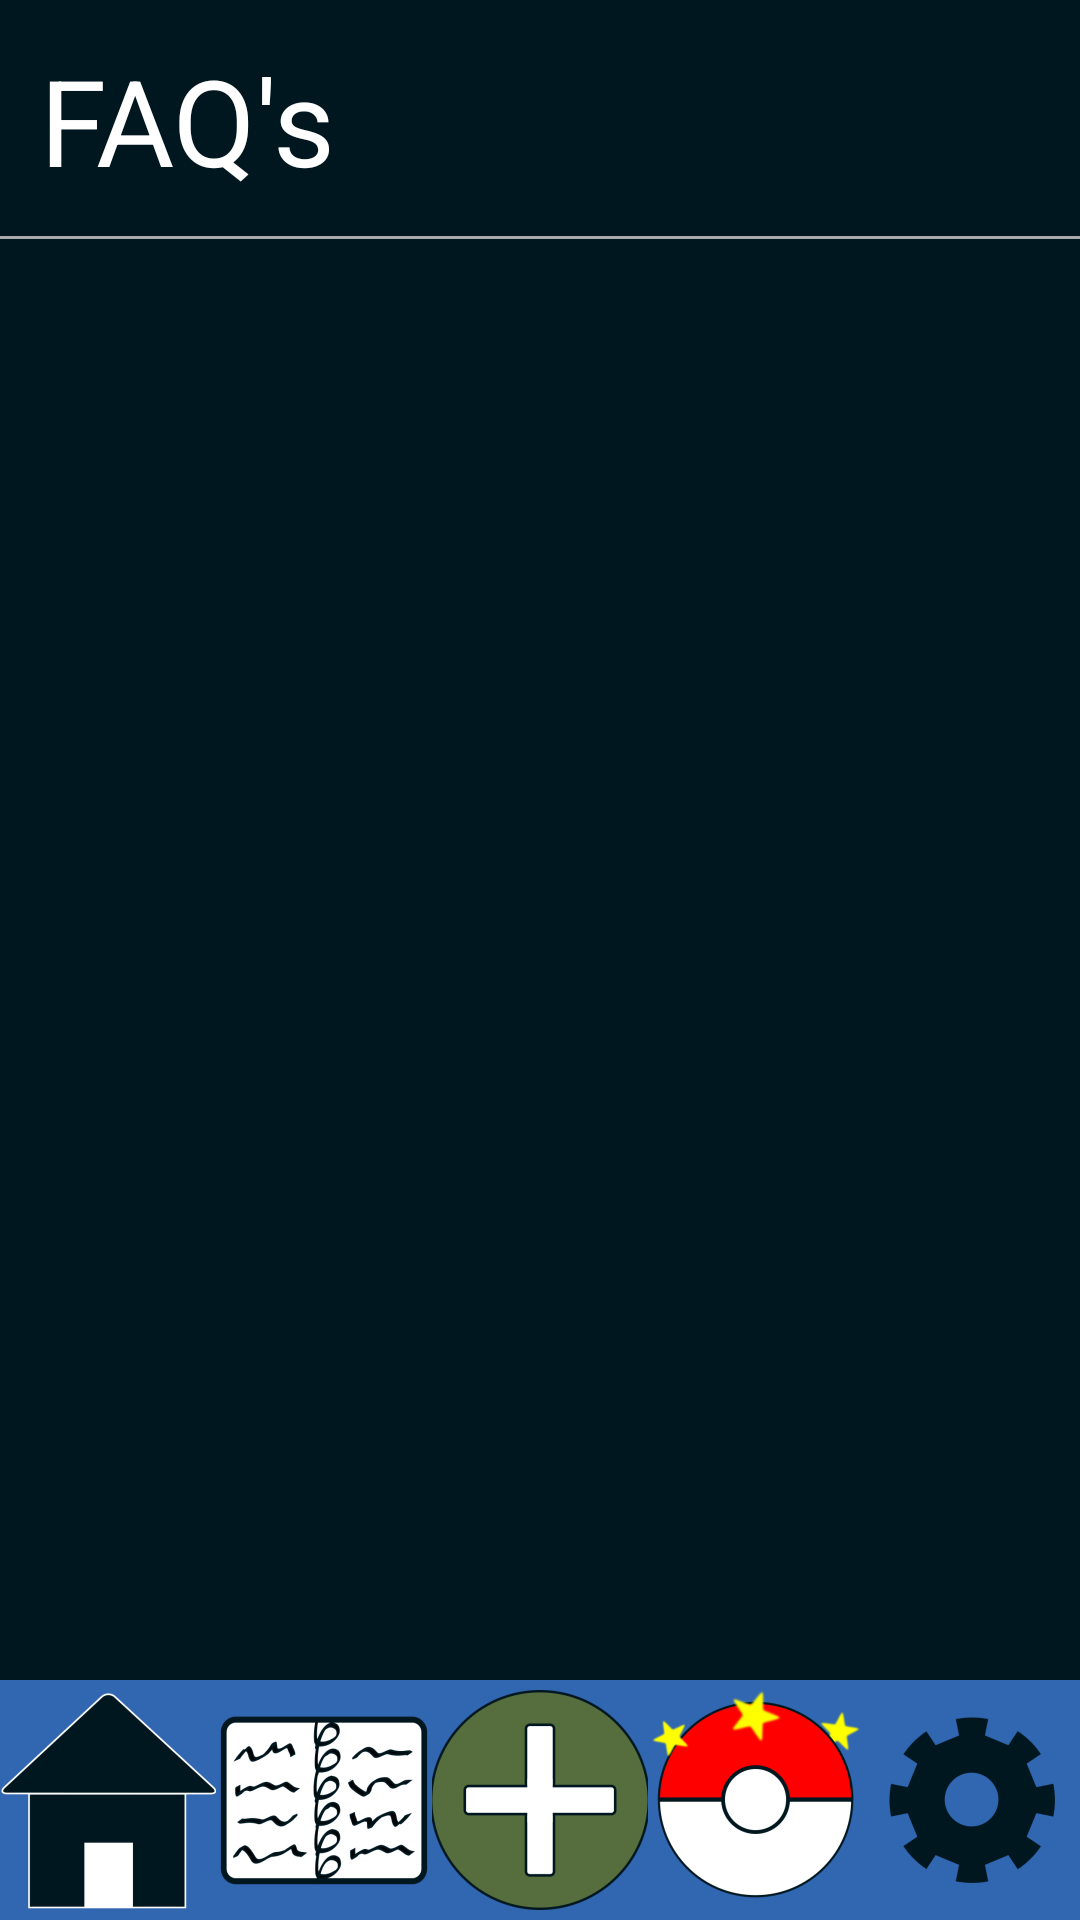

Screen size 1080px×1920px. Icon name, then its box in pixels as (x1, y1, x2, y2):
addpokemon: (432, 1690, 648, 1910)
home: (1, 1693, 216, 1909)
pokedex: (221, 1716, 427, 1885)
settings: (889, 1717, 1055, 1883)
